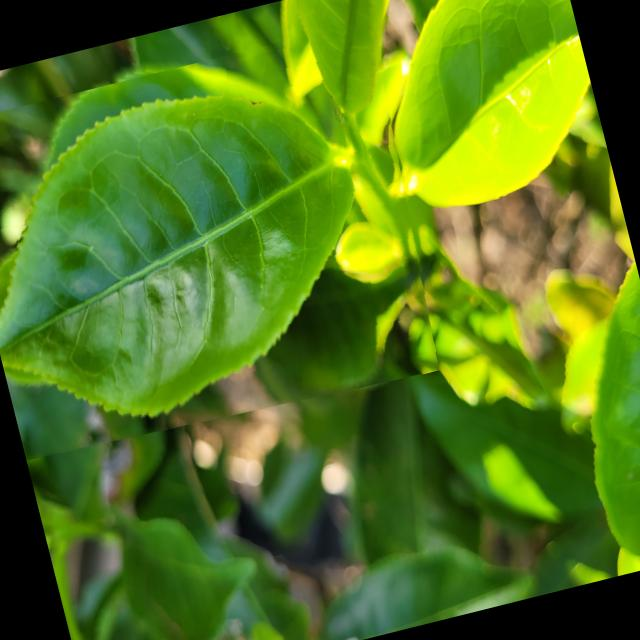Category B(2-4 days): (0, 19, 456, 472)
